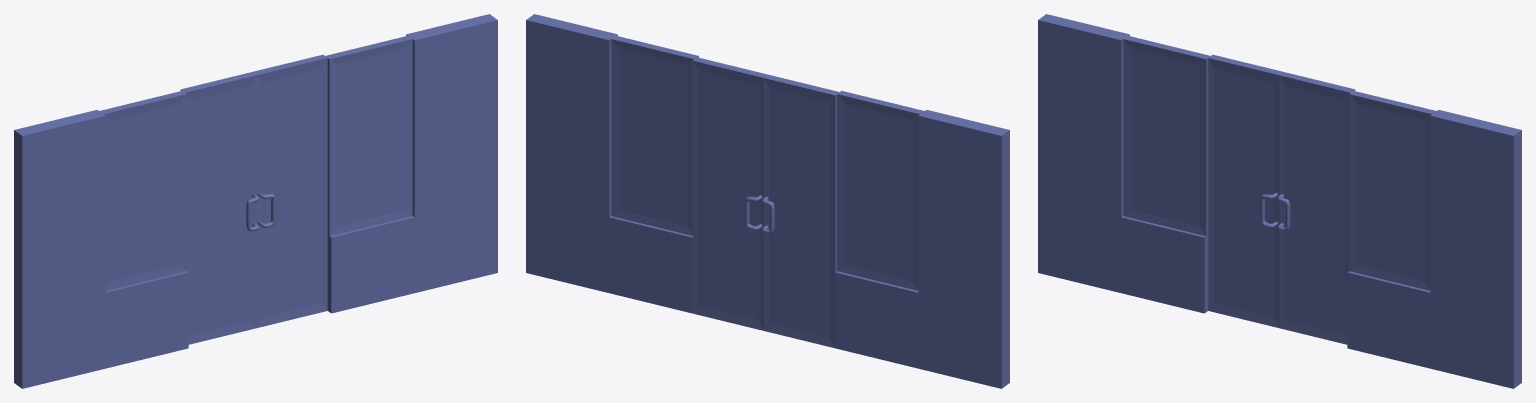
The model's file is MOD_BAR BarDoor.fbx.
3 renders of one model, left to right at view 1: azimuth 30°, elevation 25°; view 2: azimuth 150°, elevation 25°; view 3: azimuth 330°, elevation 25°, orthographic.
Visible parts, largest first — view 1: BarDoorFrameLeft, BarDoorFrameRight, BarDoorRight, BarDoorLeft; view 2: BarDoorFrameLeft, BarDoorFrameRight, BarDoorLeft, BarDoorRight; view 3: BarDoorFrameRight, BarDoorFrameLeft, BarDoorLeft, BarDoorRight.
Part boxes in pixels (bbox=[...]): BarDoorFrameLeft: bbox=[14, 90, 188, 388]; BarDoorFrameRight: bbox=[325, 14, 497, 313]; BarDoorRight: bbox=[252, 54, 327, 328]; BarDoorLeft: bbox=[180, 72, 256, 344]; BarDoorFrameLeft: bbox=[835, 90, 1009, 388]; BarDoorFrameRight: bbox=[526, 14, 698, 313]; BarDoorLeft: bbox=[764, 74, 839, 348]; BarDoorRight: bbox=[692, 57, 767, 330]; BarDoorFrameRight: bbox=[1347, 90, 1521, 388]; BarDoorFrameLeft: bbox=[1038, 14, 1210, 313]; BarDoorLeft: bbox=[1208, 54, 1283, 328]; BarDoorRight: bbox=[1279, 72, 1355, 344].
Size of the model in its own units: 600 by 305 by 34.62.
